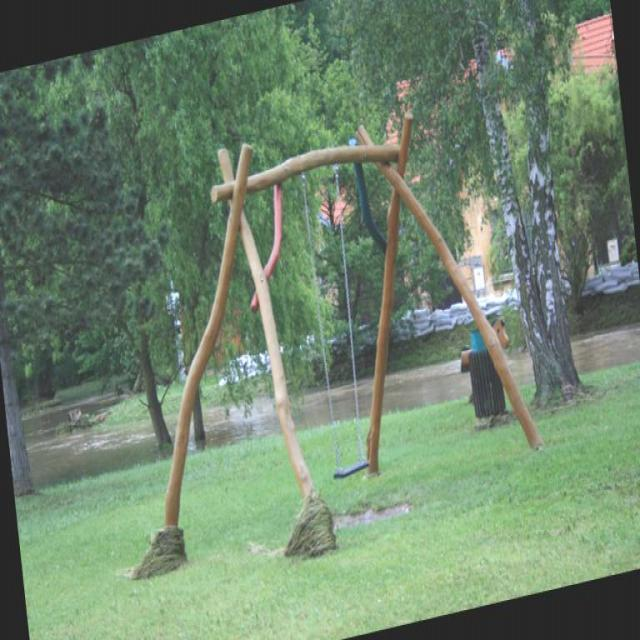flood: (23, 278, 639, 492)
